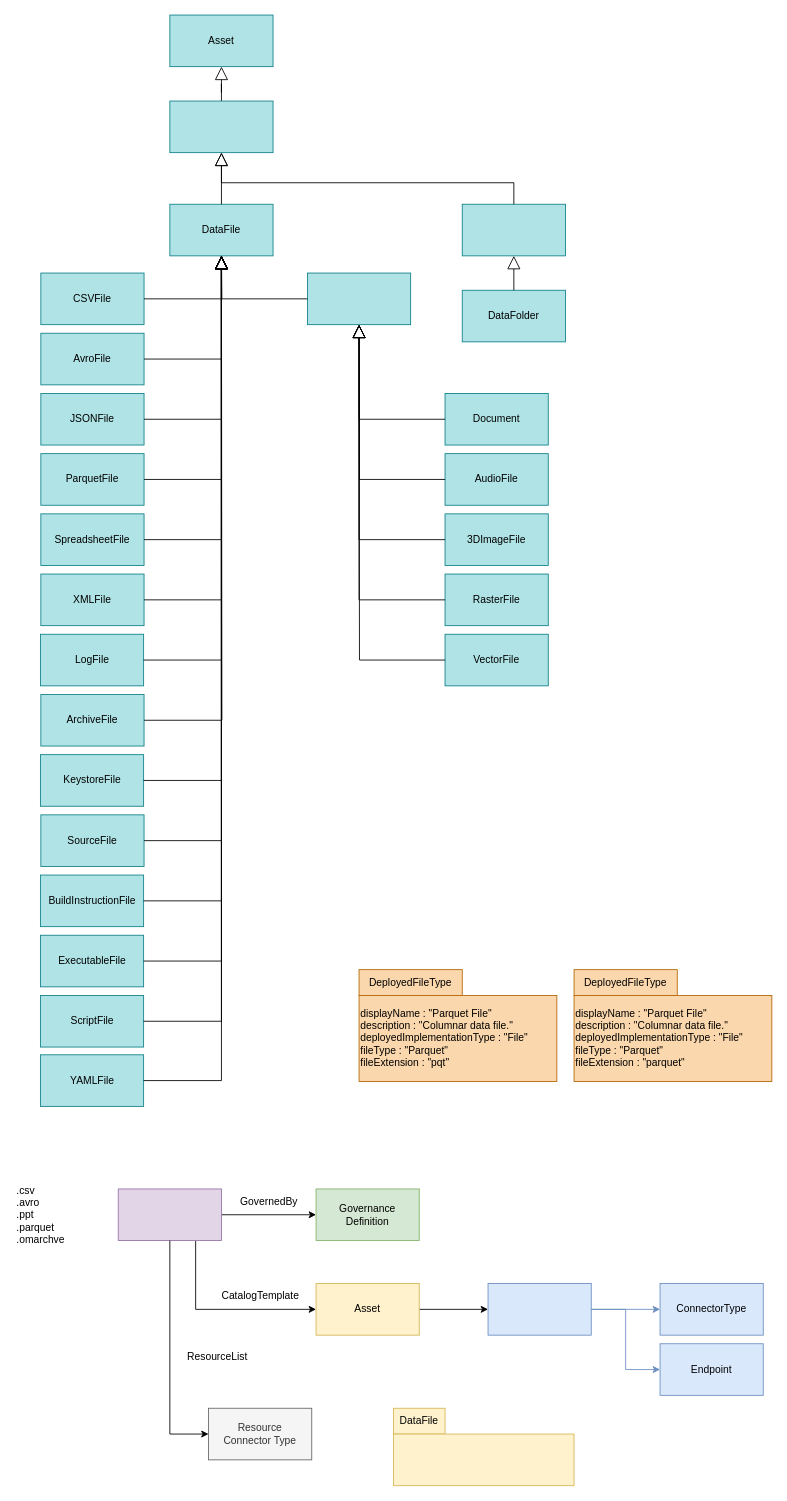
Image size: 787x1501. Some labels were removed from this diagram. The centre of each missing label's shape, as x and y in pixels:
Connection: the point at 539,1309
DataStore: the point at 221,126
deployedImplementationType = yyy fileType = xxx: the point at 483,1459
File Type: the point at 169,1214
FileFolder: the point at 513,229
MediaFile: the point at 359,298
